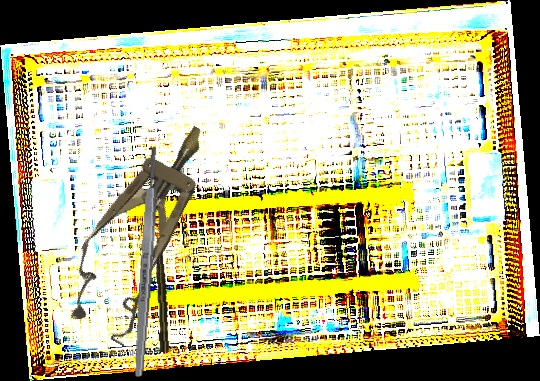Handpiece: (152, 233, 171, 353)
Scalpel Handle: (131, 145, 162, 379)
Speculum: (49, 106, 237, 349)
